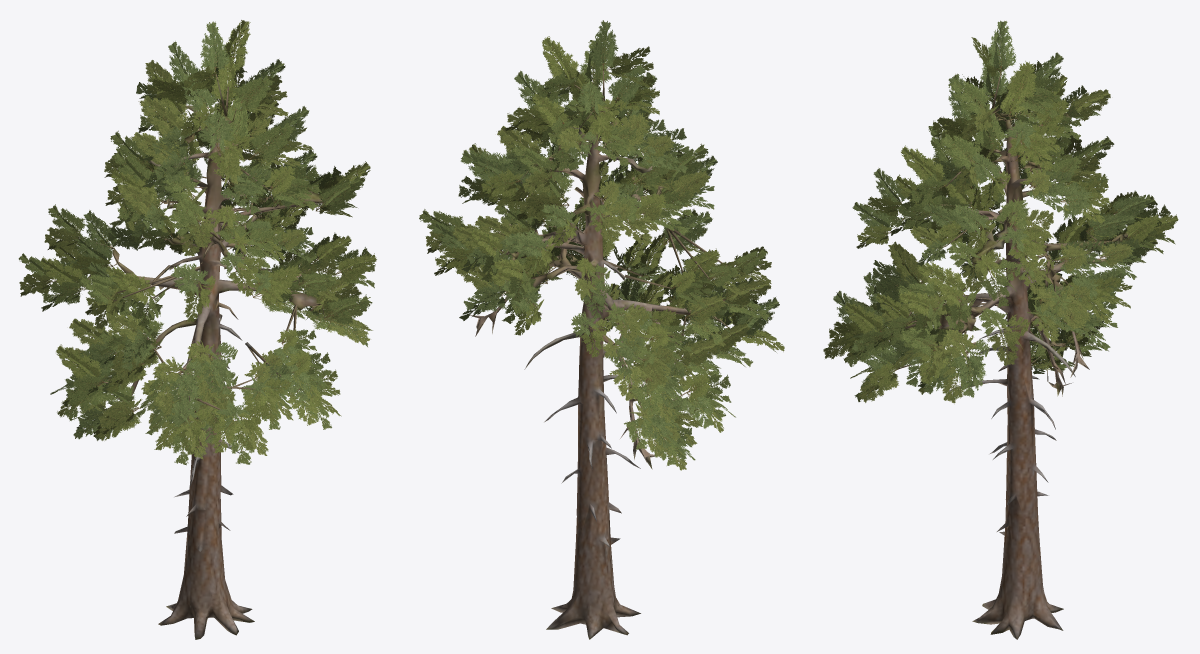
Rendered from solitary-pine-under-10k.glb.
3 renders of one model, left to right at view 1: azimuth 30°, elevation 25°; view 2: azimuth 150°, elevation 25°; view 3: azimuth 270°, elevation 25°, orthographic.
Parts seen in each view (by area): view 1: Pine needle foliage cards, Pine wood and connected twigs; view 2: Pine needle foliage cards, Pine wood and connected twigs; view 3: Pine needle foliage cards, Pine wood and connected twigs.
Part boxes in pixels (box(x1,y1,x2,y2)): Pine needle foliage cards: box(18, 20, 376, 465); Pine wood and connected twigs: box(56, 74, 332, 639); Pine needle foliage cards: box(419, 20, 784, 470); Pine wood and connected twigs: box(470, 70, 730, 639); Pine needle foliage cards: box(823, 20, 1178, 403); Pine wood and connected twigs: box(891, 73, 1128, 639).
Bounding box in the file's own units: 1.03 × 1.92 × 1.07.
2 materials, 2 textured.
